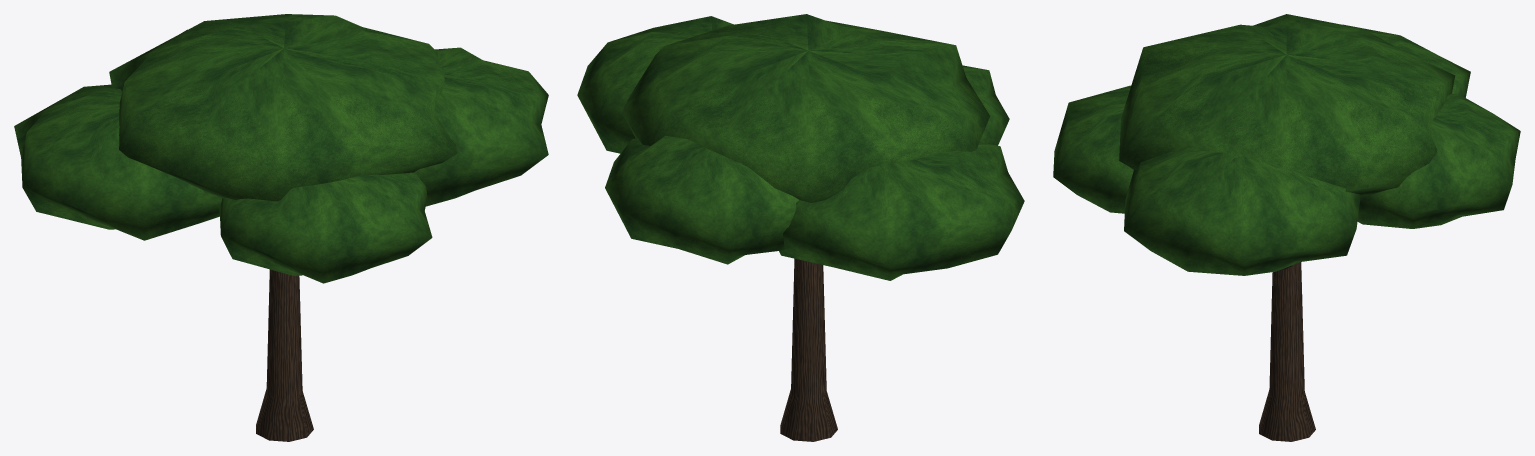
The model's file is arbol_selva.obj.
The picture shows the model from 3 angles, left to right: view 1: azimuth 30°, elevation 25°; view 2: azimuth 150°, elevation 25°; view 3: azimuth 270°, elevation 25°; orthographic projection.
Parts seen in each view (by area): view 1: arbol_selva; view 2: arbol_selva; view 3: arbol_selva.
Part boxes in pixels (x1,y1,x2,y2): arbol_selva: [14, 14, 548, 441]; arbol_selva: [577, 14, 1024, 441]; arbol_selva: [1053, 14, 1520, 441].
Bounding box in the file's own units: 7.72 × 5.9 × 6.67.
2 materials, 2 textured.
